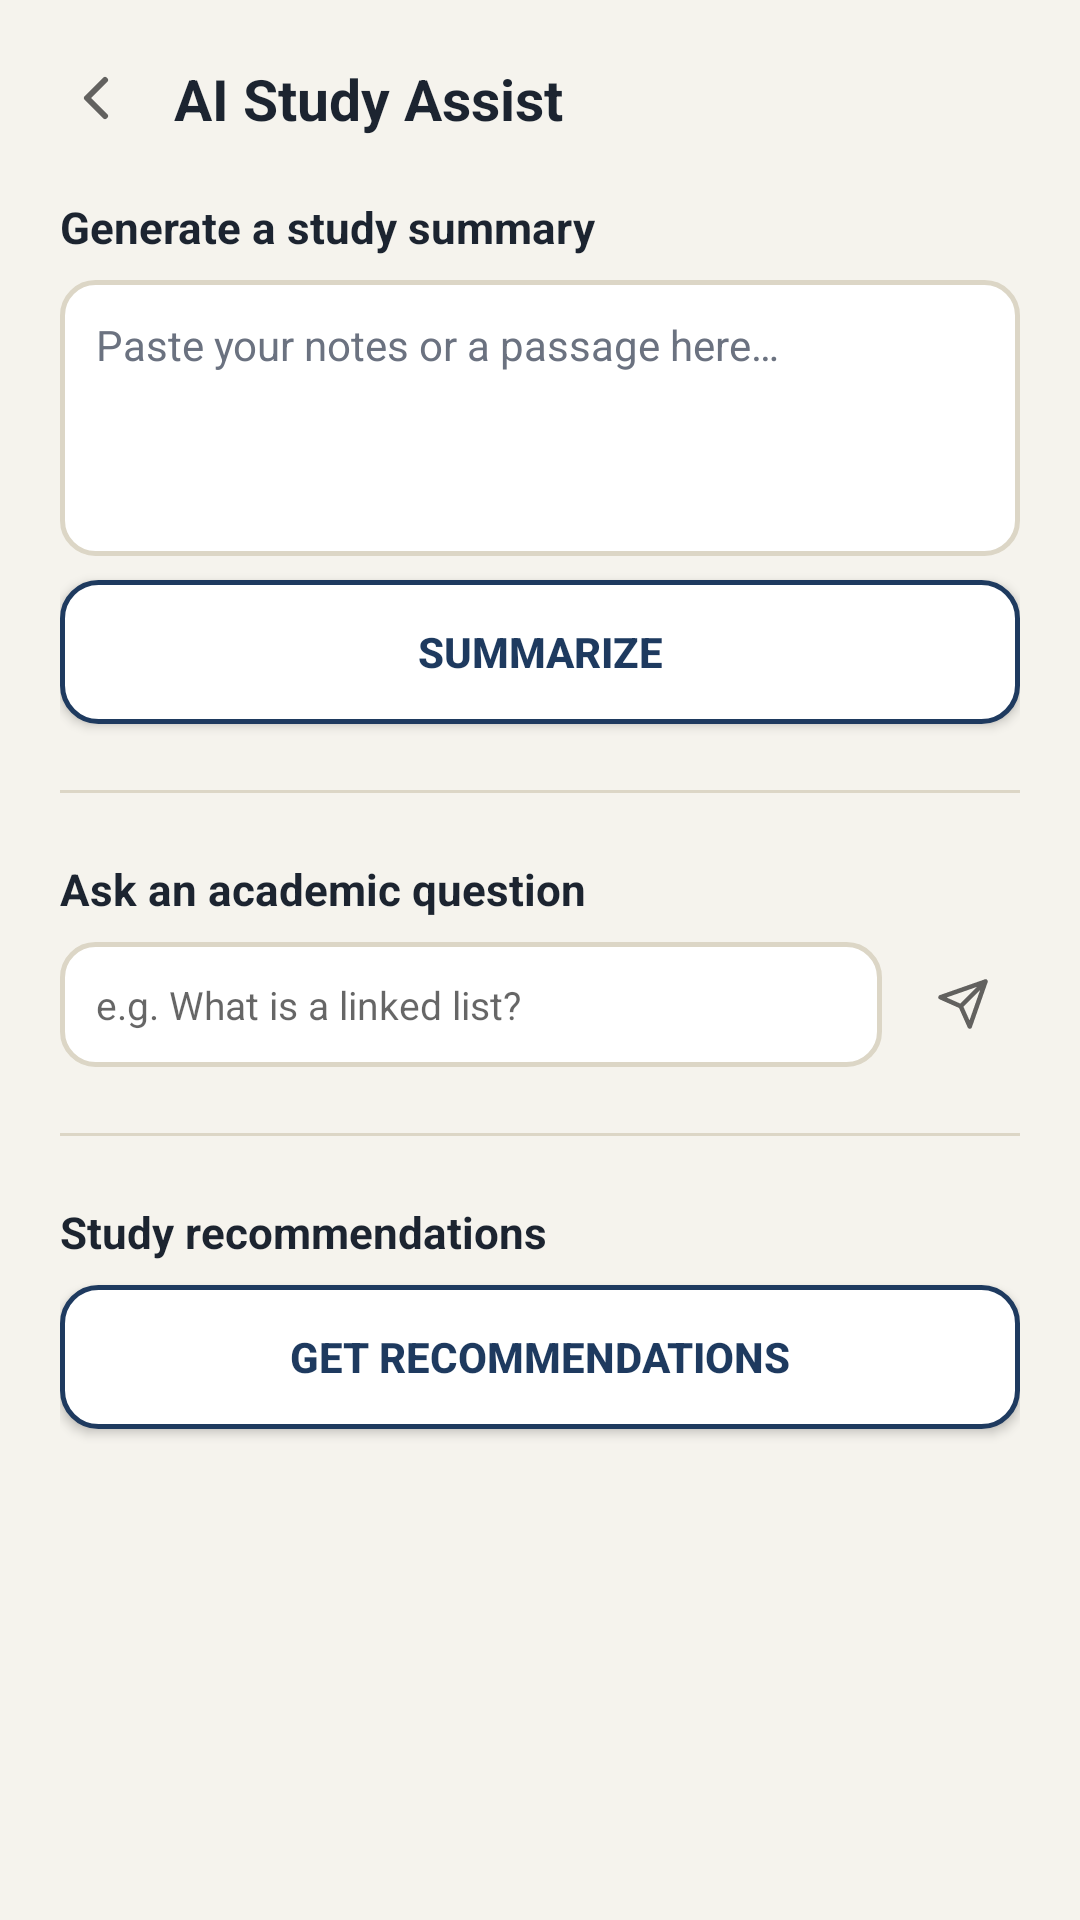

Where to tap for icons on this 1080×1920 app screen, as [x,y]:
back: [96,98]
send: [963,1004]
